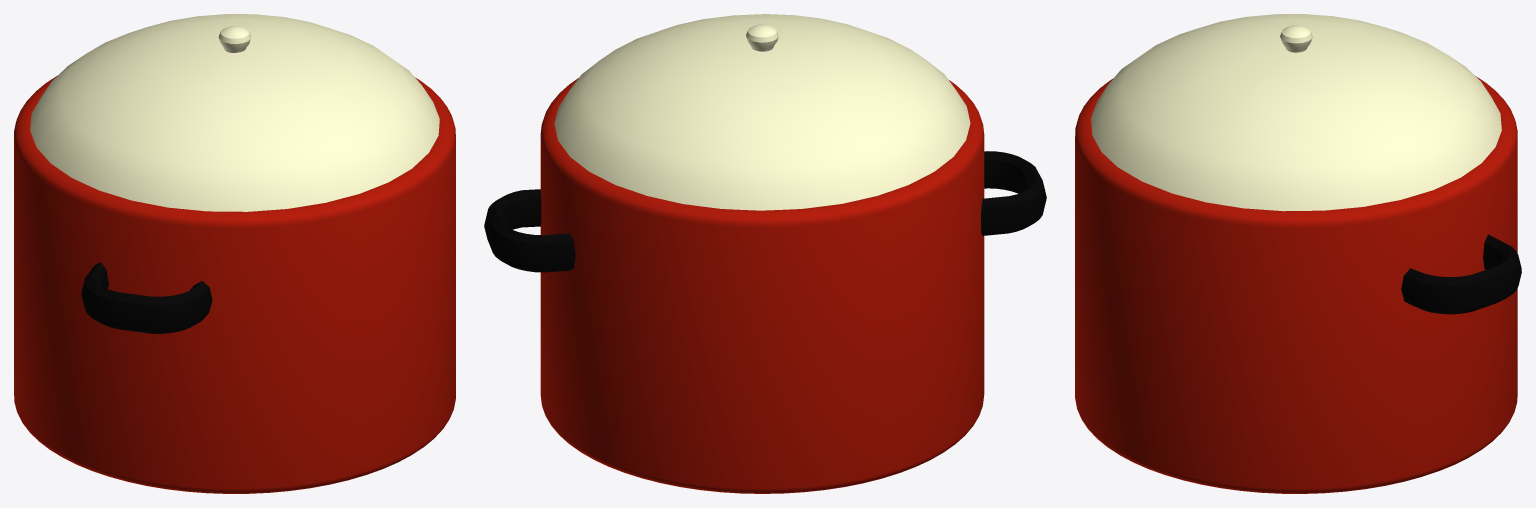
File: boiler.fbx
3 renders of one model, left to right at view 1: azimuth 30°, elevation 25°; view 2: azimuth 150°, elevation 25°; view 3: azimuth 270°, elevation 25°, orthographic.
Visible parts, largest first — view 1: boiler; view 2: boiler; view 3: boiler.
Boxes of the visible parts, <box> form: boiler: <box>14,14,455,493</box>; boiler: <box>484,14,1046,493</box>; boiler: <box>1075,14,1521,493</box>.
Size of the model in its own units: 53.08 by 47.29 by 50.71.
